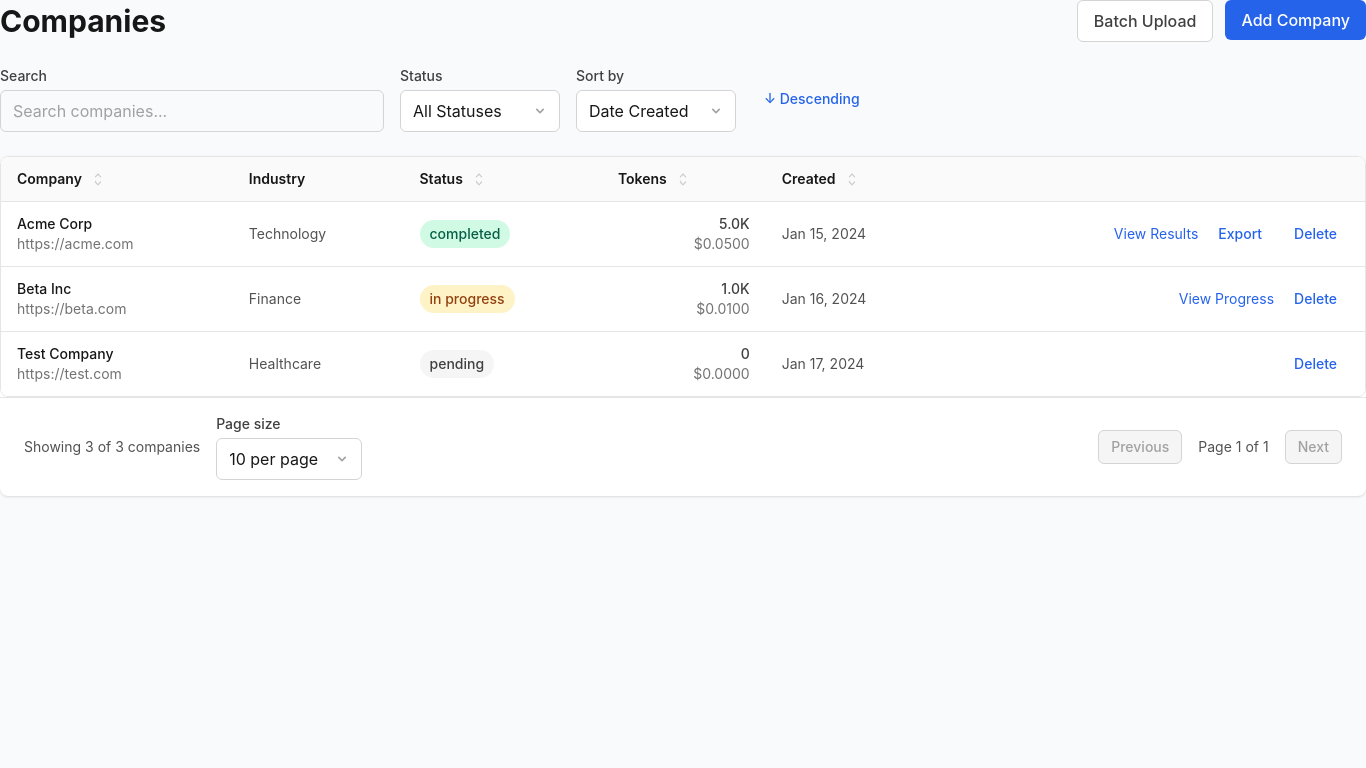
Test: TestDeleteModalDisplay (UI-10) › clicking delete opens confirmation modal
Click delete button on first company
Click the button "Delete" in the row of "View Results" at point(1316, 234), box [1282,218,1349,250]
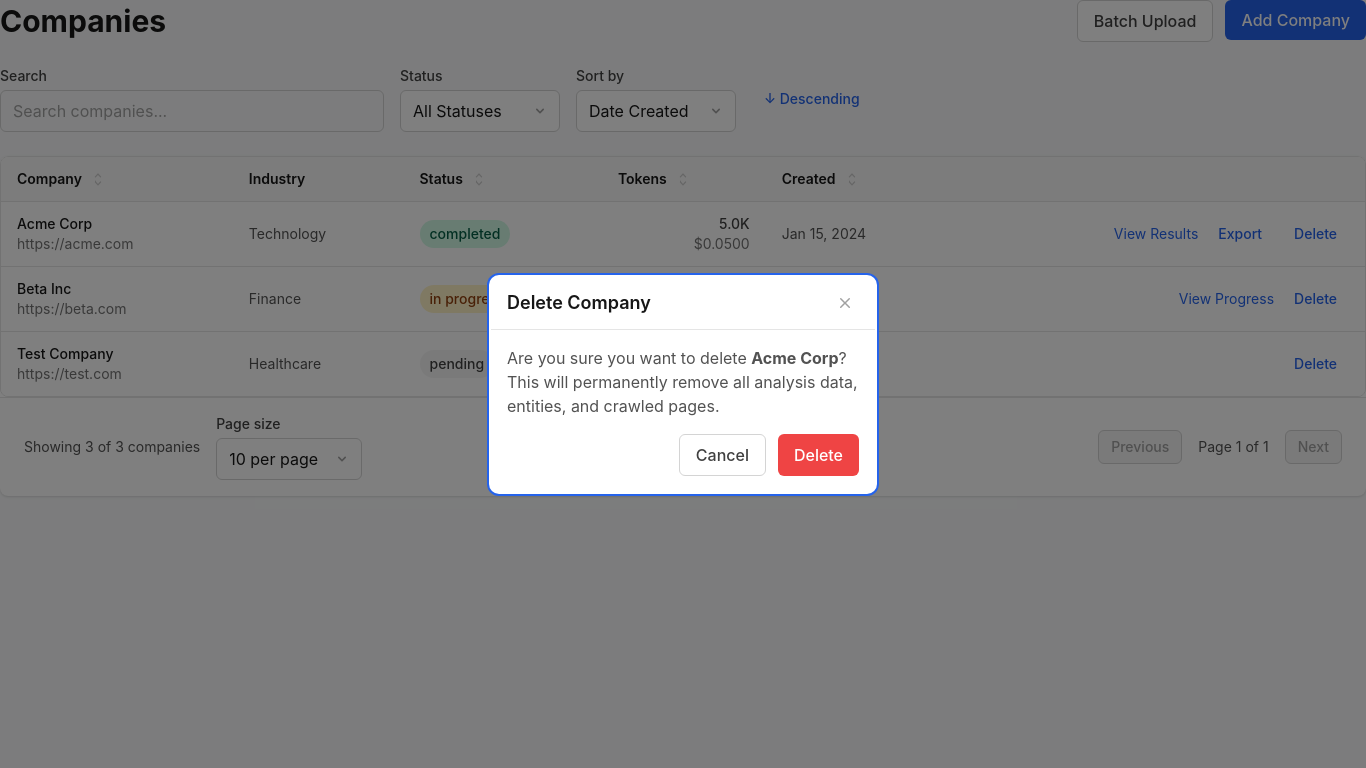
Result: the dialog is shown at [491,276,875,492]
Result: the text "Are you sure you want to delete" is shown at [507,348,751,368]
